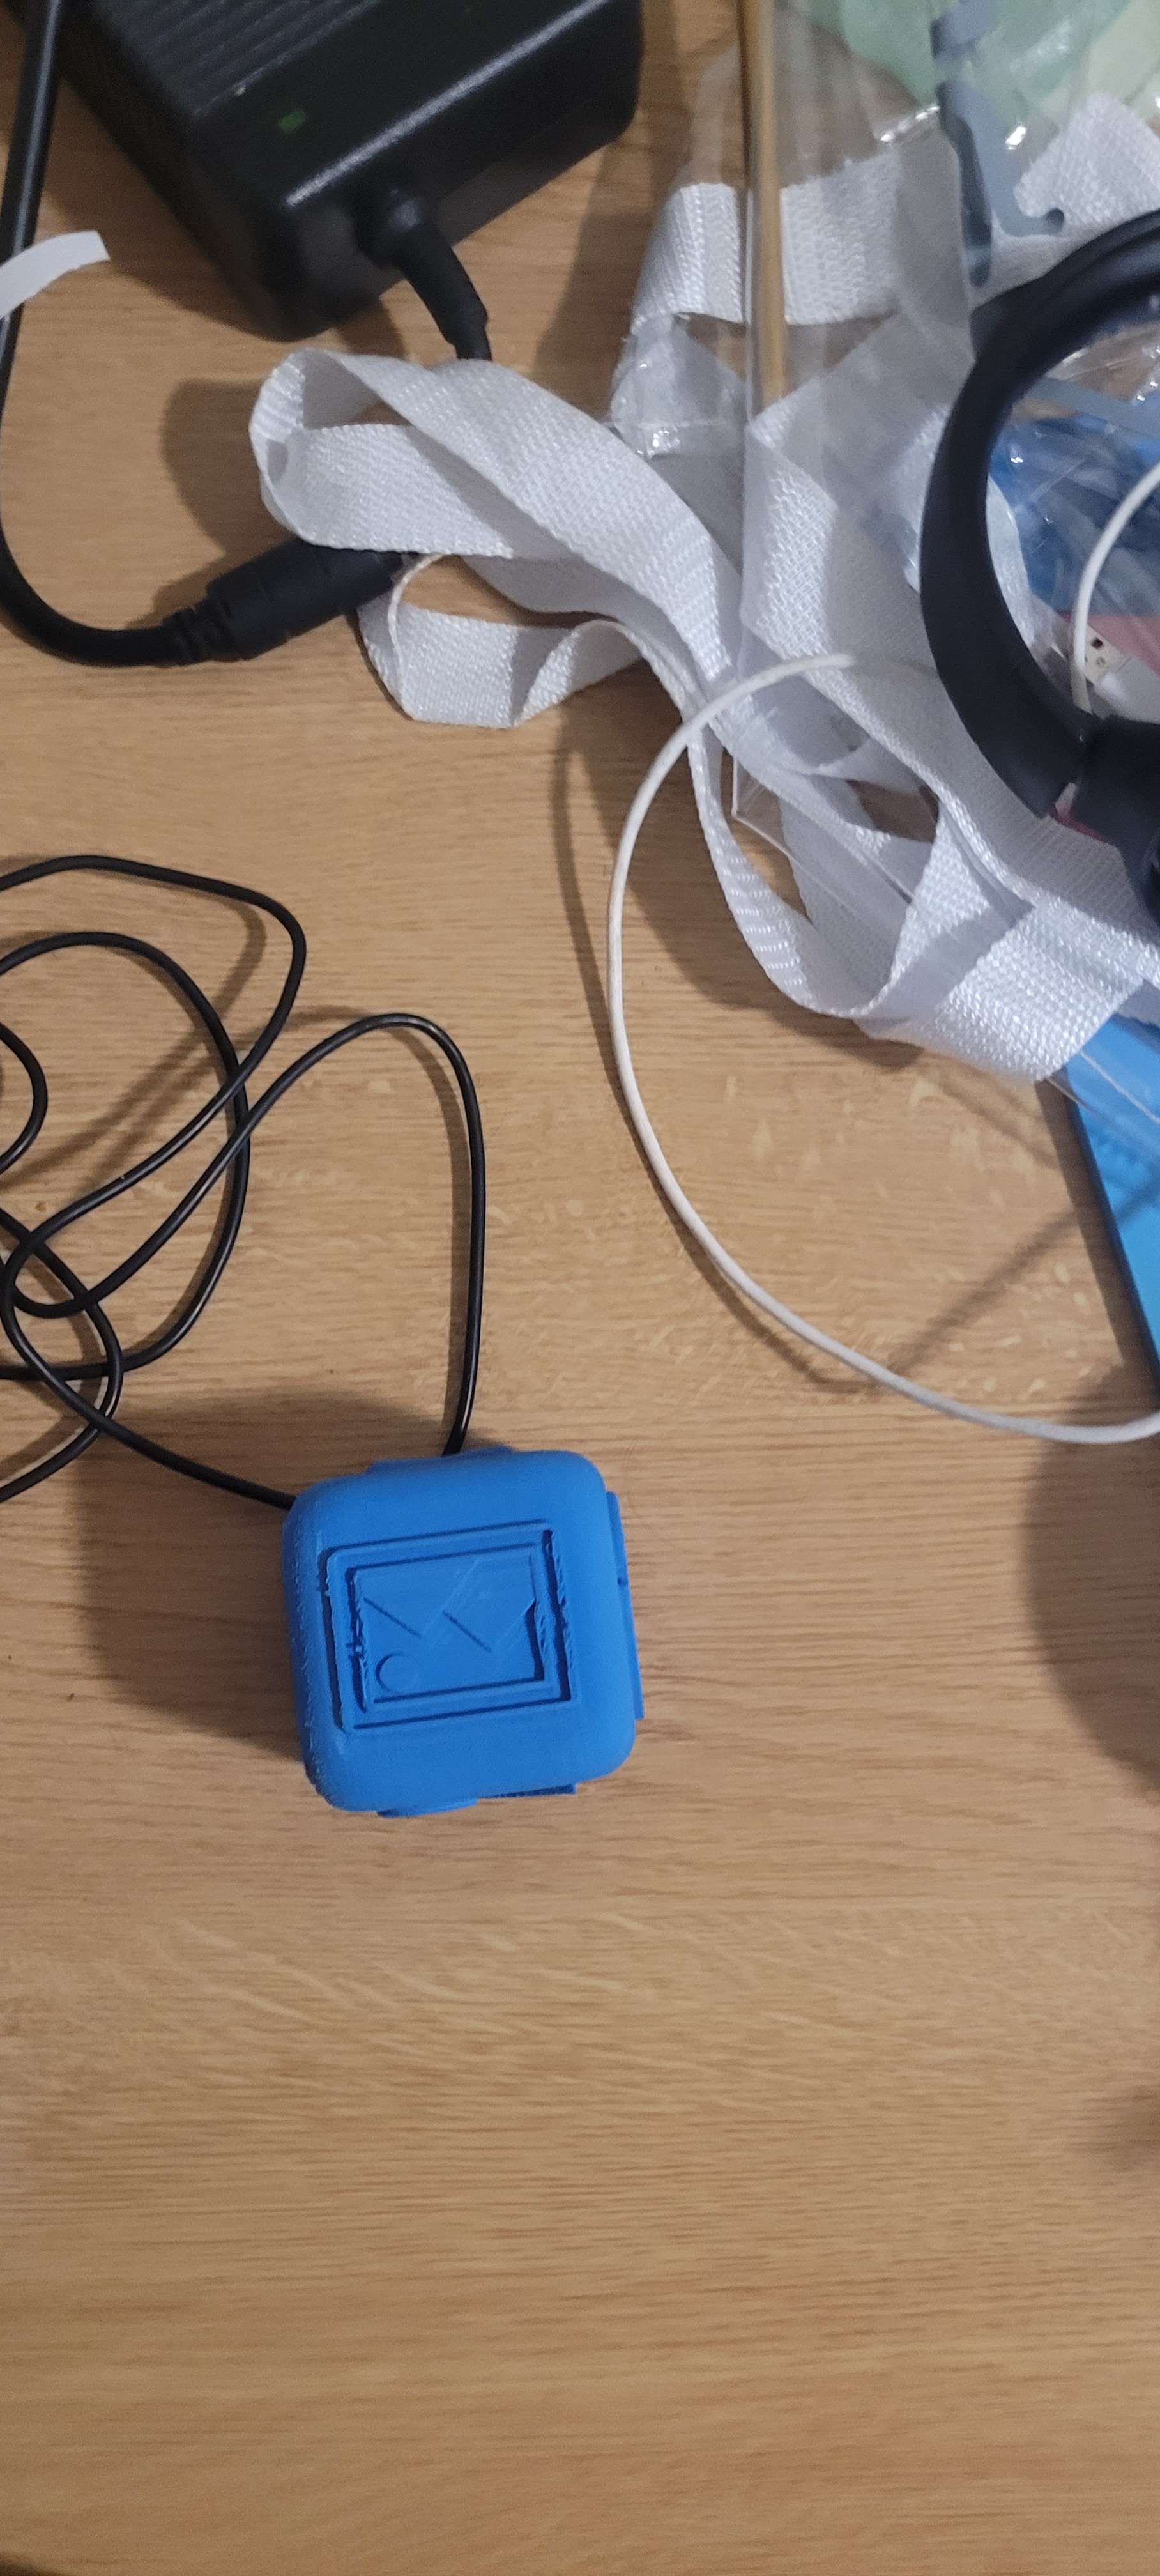Story: (307, 1510, 588, 1738)
